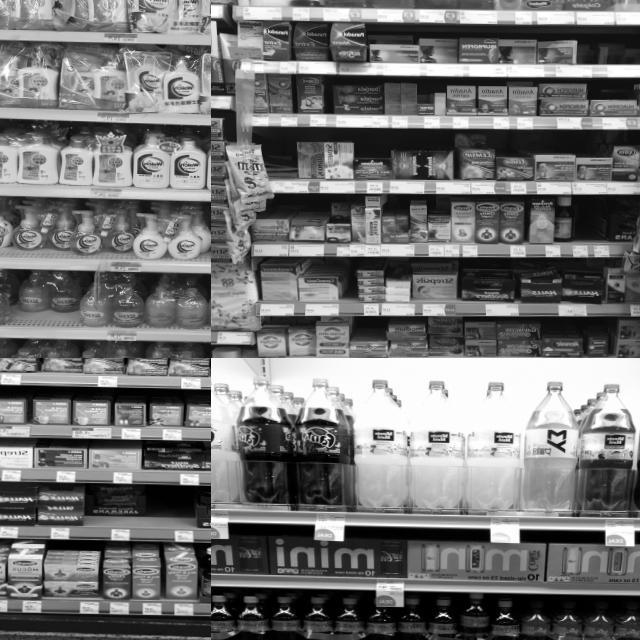empty: (147, 486, 193, 540), (571, 196, 593, 256), (346, 258, 357, 314)
